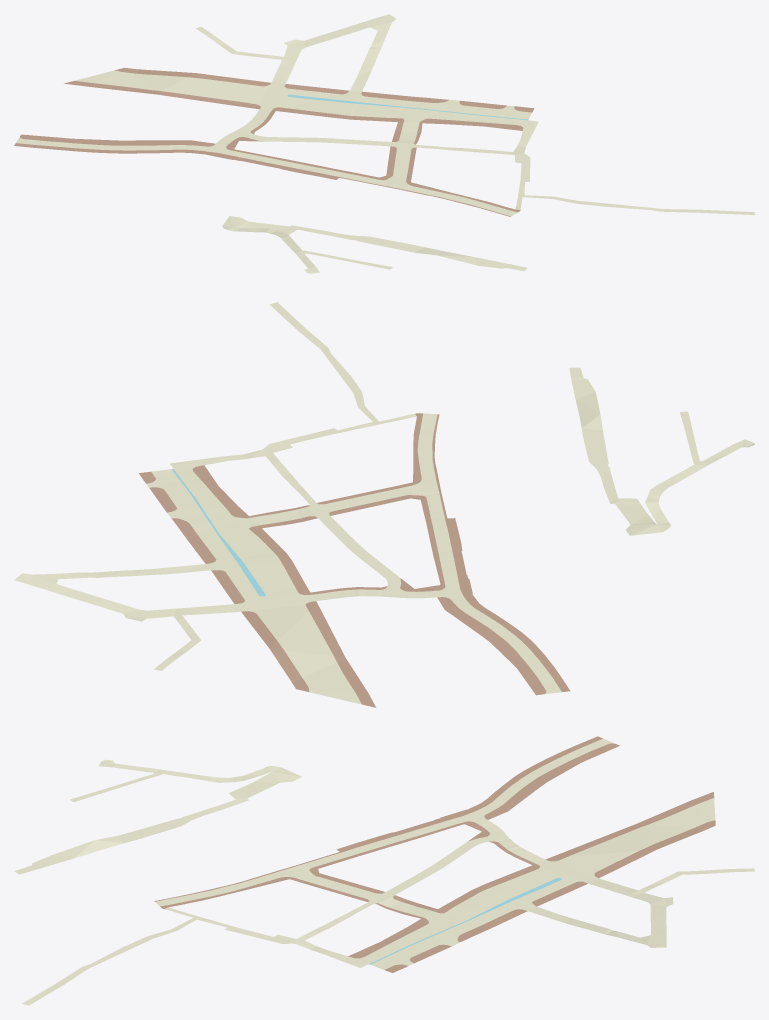
The model's file is data75.glb.
3 renders of one model, top to bottom at view 1: azimuth 30°, elevation 25°; view 2: azimuth 150°, elevation 25°; view 3: azimuth 270°, elevation 25°, orthographic. The views are drawn at different scales.
Bounding box in the file's own units: 326 × 10.81 × 380.
